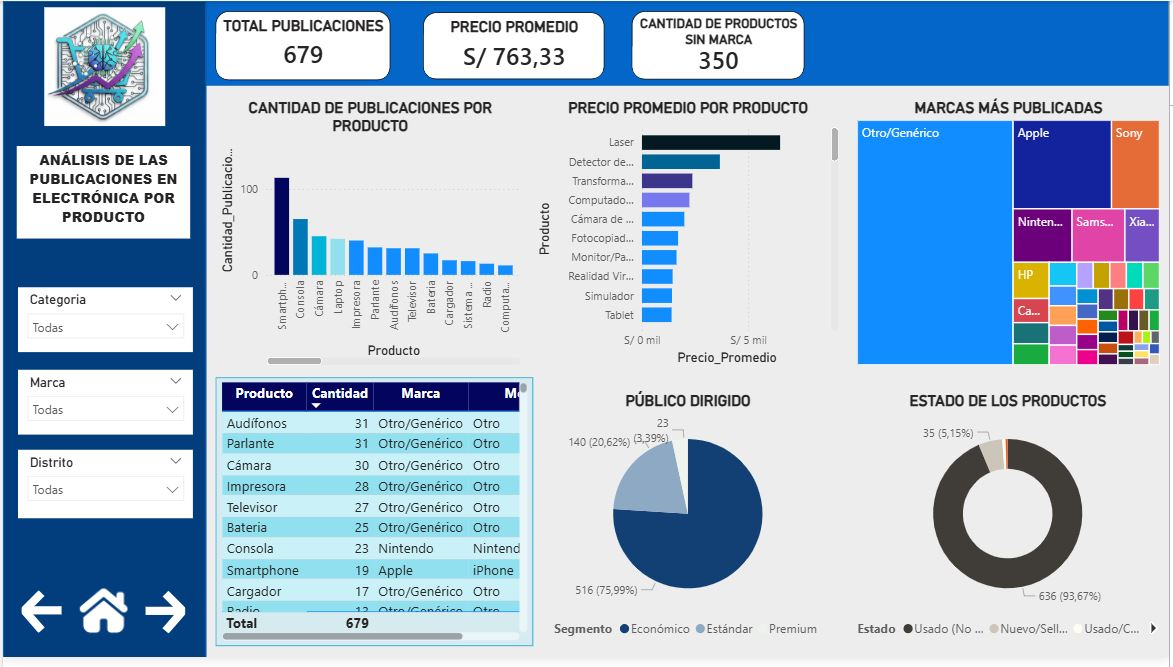

This screenshot's page, from the dashboard's own definition file:
{"tool":"powerbi","page":{"name":"Analisis_producto","canvas":[1280,720],"ordinal":3},"visuals":[{"type":"shape","box":[206,0,1073.8,92.9],"z":0},{"type":"shape","box":[0,0,223.2,721.5],"z":1000},{"type":"slicer","fields":{"Values":["dataset_mkpfacebook_electronica_v2.Distrito_Limpio"]},"box":[16.5,492.6,192.1,75.5],"z":2000},{"type":"image","box":[45.8,7.2,132.7,130.3],"z":3000},{"type":"textbox","box":[15.1,159.2,190.7,101.5],"z":4000},{"type":"slicer","fields":{"Values":["dataset_mkpfacebook_electronica_v2.Marca"]},"box":[16.5,404.8,192.1,71.4],"z":5000},{"type":"treemap","title":"MARCAS MÁS PUBLICADAS","fields":{"Group":["dataset_mkpfacebook_electronica_v2.Marca"],"Values":["CountNonNull(dataset_mkpfacebook_electronica_v2.Titulo_Limpio)"]},"box":[933.3,107.1,341.7,297.6],"z":6000},{"type":"tableEx","title":"CANTIDAD DE PUBLICACIONES POR MODELO","fields":{"Values":["dataset_mkpfacebook_electronica_v2.Producto","CountNonNull(dataset_mkpfacebook_electronica_v2.Titulo_Limpio)","dataset_mkpfacebook_electronica_v2.Marca","dataset_mkpfacebook_electronica_v2.Modelo"]},"box":[233.3,413,348.5,295],"z":7000},{"type":"slicer","fields":{"Values":["dataset_mkpfacebook_electronica_v2.Categoria"]},"box":[16.5,314.2,192.1,71.4],"z":8000},{"type":"columnChart","title":"CANTIDAD DE PUBLICACIONES POR PRODUCTO","fields":{"Category":["dataset_mkpfacebook_electronica_v2.Producto"],"Y":["CountNonNull(dataset_mkpfacebook_electronica_v2.Titulo_Limpio)"]},"box":[233.3,107.1,340,297.6],"z":9000},{"type":"pieChart","title":"PÚBLICO DIRIGIDO","fields":{"Category":["dataset_mkpfacebook_electronica_v2.Segmento"],"Y":["CountNonNull(dataset_mkpfacebook_electronica_v2.Titulo_Limpio)"]},"box":[581.8,428.1,340.3,279.9],"z":10000},{"type":"donutChart","title":"ESTADO DE LOS PRODUCTOS","fields":{"Category":["dataset_mkpfacebook_electronica_v2.Estado"],"Y":["CountNonNull(dataset_mkpfacebook_electronica_v2.Titulo_Limpio)"]},"box":[933.3,428.6,340,279.8],"z":11000},{"type":"image","box":[73.8,634.5,72.6,73.8],"z":12000},{"type":"actionButton","box":[150,644.1,56,54.8],"z":13000},{"type":"actionButton","box":[16.7,642.9,54.8,56],"z":14000},{"type":"cardVisual","title":"TOTAL PUBLICACIONES","fields":{"Data":["CountNonNull(dataset_mkpfacebook_electronica_v2.Titulo_Limpio)"]},"box":[233.3,10.7,191.7,76.2],"z":15000},{"type":"cardVisual","title":"PRECIO PROMEDIO","fields":{"Data":["Avg(dataset_mkpfacebook_electronica_v2.Precio_Num)"]},"box":[460.9,12.1,199.1,73.6],"z":16000},{"type":"barChart","title":"PRECIO PROMEDIO POR PRODUCTO","fields":{"Category":["dataset_mkpfacebook_electronica_v2.Producto"],"Y":["Avg(dataset_mkpfacebook_electronica_v2.Precio_Num)"]},"box":[582.1,107.1,340.5,297.6],"z":17000},{"type":"cardVisual","title":"CANTIDAD DE PRODUCTOS SIN MARCA","fields":{"Data":["CountNonNull(dataset_mkpfacebook_electronica_v2.Titulo_Limpio)"]},"box":[690.2,11,189.4,75.5],"z":18000}]}

Visuals, with their boxes in screenshot pixels (x1, y1, x2, y2), scaled from the page's 1280x720 canvas onto the 1173x667 screenshot:
shape: select_region(189, 0, 1172, 86)
shape: select_region(0, 0, 205, 666)
slicer - dataset_mkpfacebook_electronica_v2.Distrito_Limpio: select_region(15, 456, 191, 526)
image: select_region(42, 7, 164, 127)
textbox: select_region(14, 147, 189, 242)
slicer - dataset_mkpfacebook_electronica_v2.Marca: select_region(15, 375, 191, 441)
"MARCAS MÁS PUBLICADAS" treemap: select_region(855, 99, 1168, 375)
"CANTIDAD DE PUBLICACIONES POR MODELO" tableEx: select_region(214, 383, 533, 656)
slicer - dataset_mkpfacebook_electronica_v2.Categoria: select_region(15, 291, 191, 357)
"CANTIDAD DE PUBLICACIONES POR PRODUCTO" columnChart: select_region(214, 99, 525, 375)
"PÚBLICO DIRIGIDO" pieChart: select_region(533, 397, 845, 656)
"ESTADO DE LOS PRODUCTOS" donutChart: select_region(855, 397, 1167, 656)
image: select_region(68, 588, 134, 656)
actionButton: select_region(137, 597, 189, 647)
actionButton: select_region(15, 596, 66, 647)
"TOTAL PUBLICACIONES" cardVisual: select_region(214, 10, 389, 81)
"PRECIO PROMEDIO" cardVisual: select_region(422, 11, 605, 79)
"PRECIO PROMEDIO POR PRODUCTO" barChart: select_region(533, 99, 845, 375)
"CANTIDAD DE PRODUCTOS SIN MARCA" cardVisual: select_region(633, 10, 806, 80)
